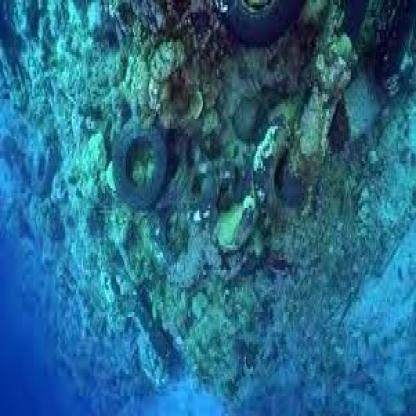tire: (102, 97, 178, 203), (242, 111, 316, 218), (218, 2, 303, 60)
